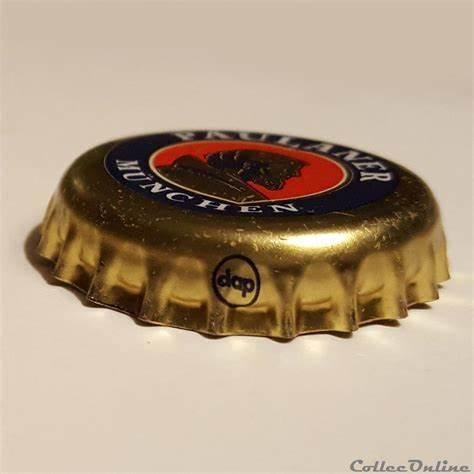metal: (41, 131, 449, 336)
